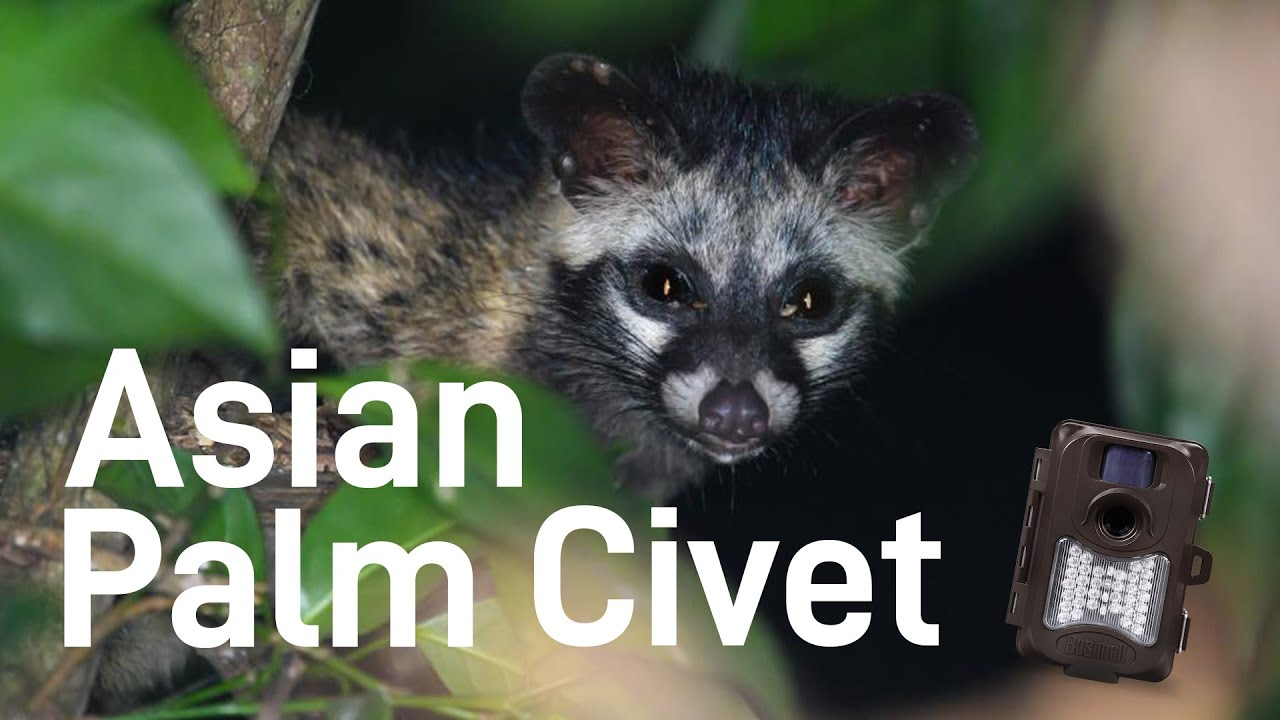Civet: (531, 62, 975, 461)
